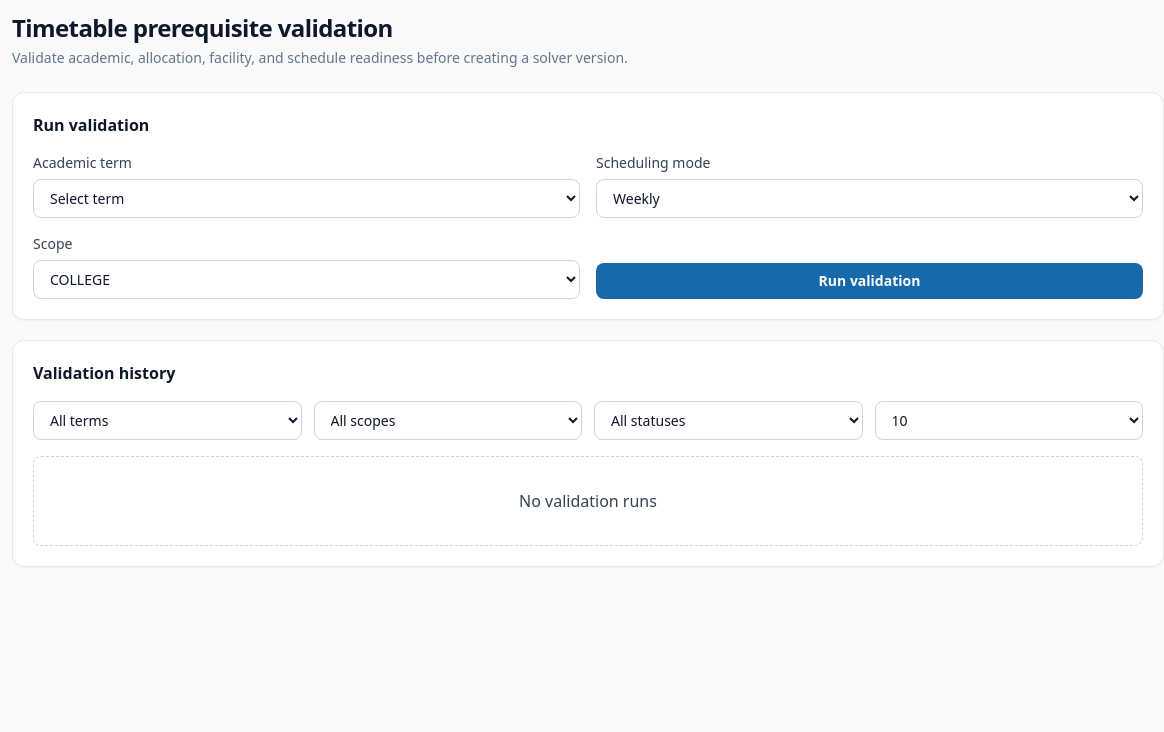
Validation page › shows only the identifier selector required by the selected scope
Check: the text "Department" is not shown
Select "DEPARTMENT" in the dropdown labelled "Scope" at coordinates (306, 280), box [33, 260, 580, 299]
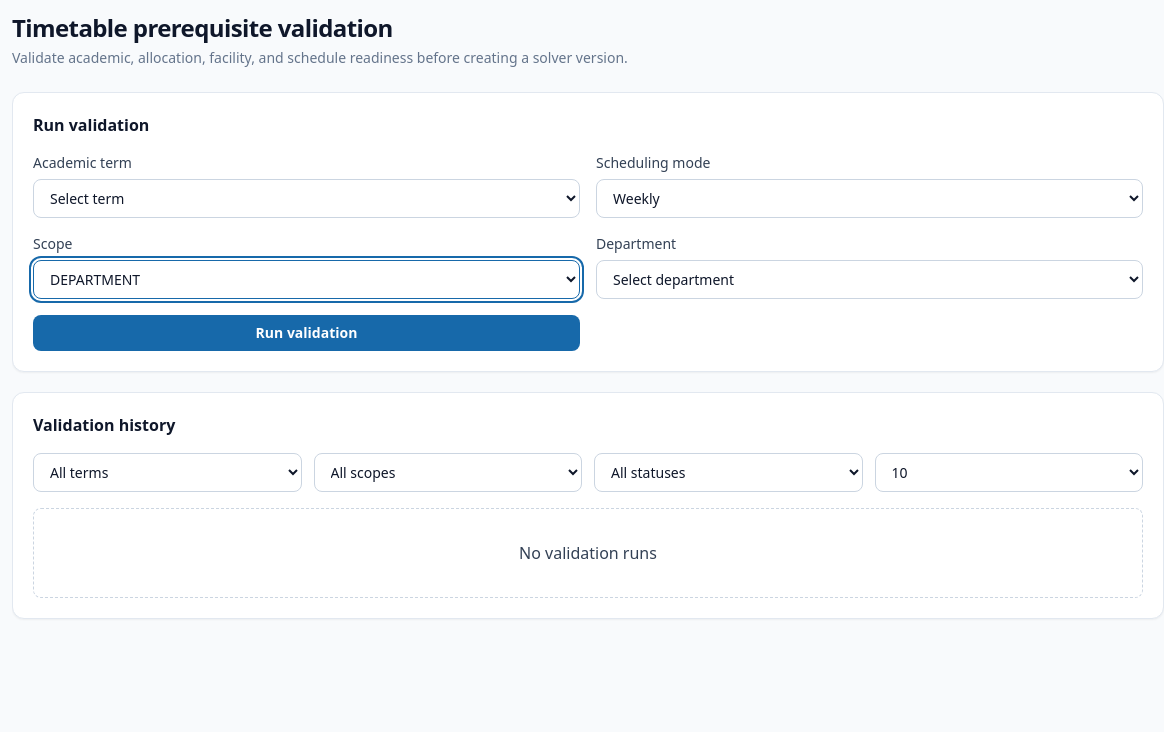
Check: the text "Department" is shown, box [596, 234, 676, 253]
